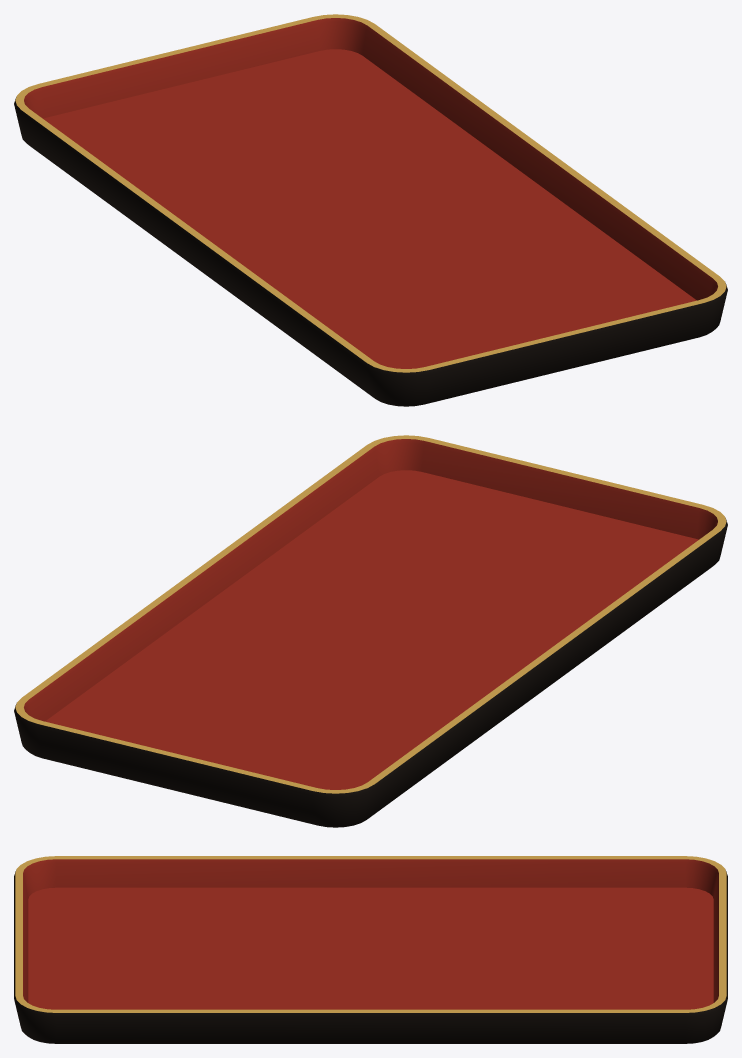
The model's file is passtray.glb.
The picture shows the model from 3 angles, top to bottom: view 1: azimuth 30°, elevation 25°; view 2: azimuth 150°, elevation 25°; view 3: azimuth 270°, elevation 25°; orthographic projection. The views are drawn at different scales.
Visible parts, largest first — view 1: PassTrayBody; view 2: PassTrayBody; view 3: PassTrayBody.
Part boxes in pixels (x1,y1,x2,y2): PassTrayBody: (14, 14, 727, 406); PassTrayBody: (14, 435, 727, 827); PassTrayBody: (14, 856, 727, 1043).
Size of the model in its own units: 0.44 by 0.053 by 0.84.
